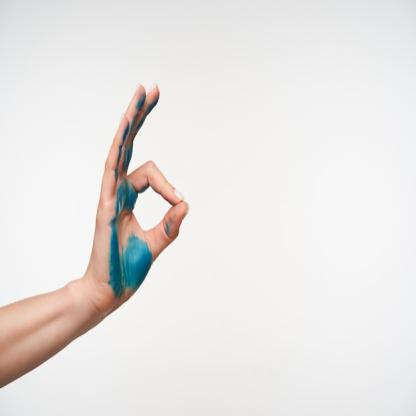ok: (89, 75, 190, 310)
